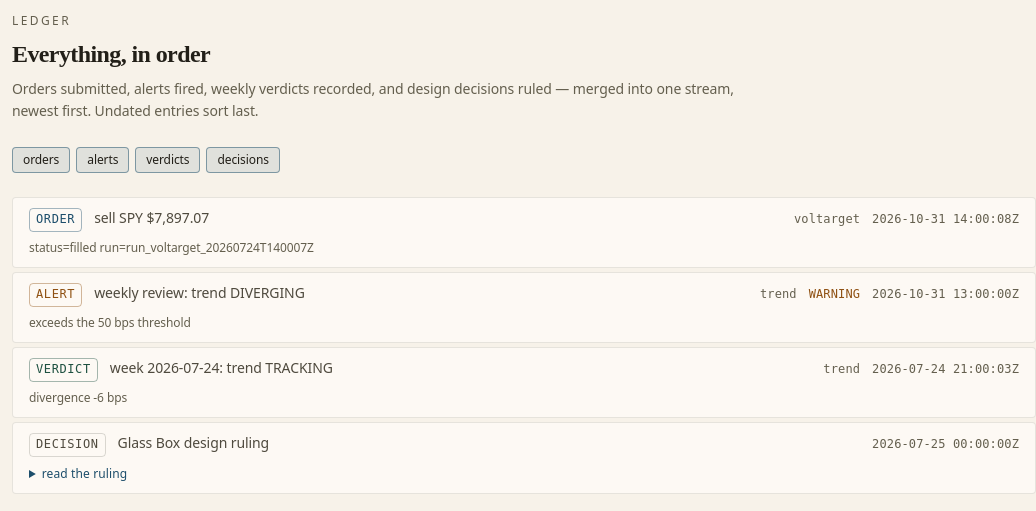
it: Ledger › merges all four event kinds and filters them
Expected: the list with test id "ledger-list" is shown, left=12, top=197, right=1035, bottom=494
Expected: the list item with test id "ledger-order" is shown, left=12, top=197, right=1035, bottom=268
Click the button "orders" at (41, 160), box left=12, top=147, right=70, bottom=173
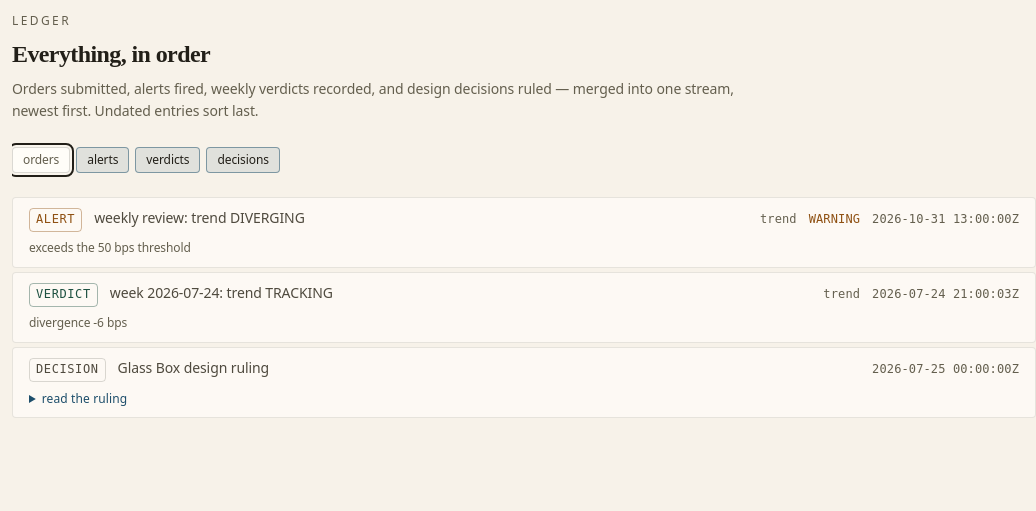
Expected: the list item with test id "ledger-alert" is shown, left=12, top=197, right=1035, bottom=268
Result: the list item with test id "ledger-order" is gone
